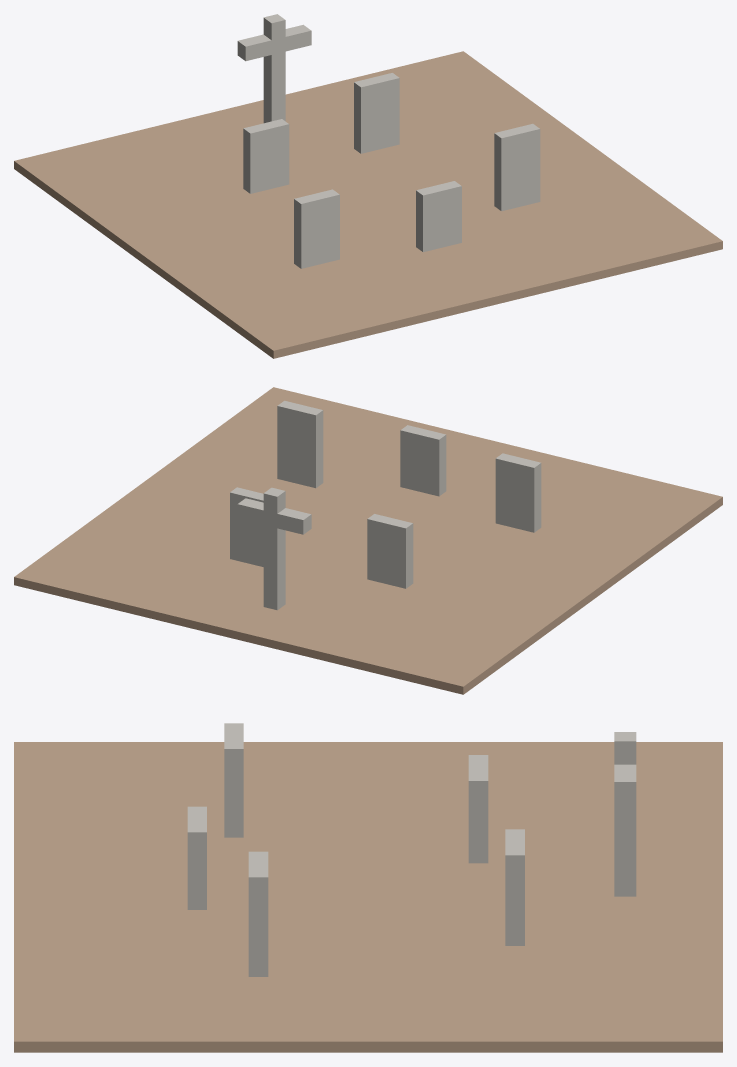
The model's file is grave-yard.glb.
The picture shows the model from 3 angles, top to bottom: view 1: azimuth 30°, elevation 25°; view 2: azimuth 150°, elevation 25°; view 3: azimuth 270°, elevation 25°; orthographic projection. The views are drawn at different scales.
Visible parts, largest first — view 1: grave-yard_soil, grave-yard_stone; view 2: grave-yard_soil, grave-yard_stone; view 3: grave-yard_soil, grave-yard_stone.
Boxes of the visible parts, x1=… form: grave-yard_soil: x1=14, y1=51, x2=722, y2=358; grave-yard_stone: x1=237, y1=14, x2=540, y2=268; grave-yard_soil: x1=14, y1=387, x2=722, y2=694; grave-yard_stone: x1=230, y1=400, x2=541, y2=610; grave-yard_soil: x1=14, y1=742, x2=722, y2=1052; grave-yard_stone: x1=187, y1=723, x2=636, y2=976.
Bounding box in the file's own units: 1.93 × 0.5017 × 1.93.
